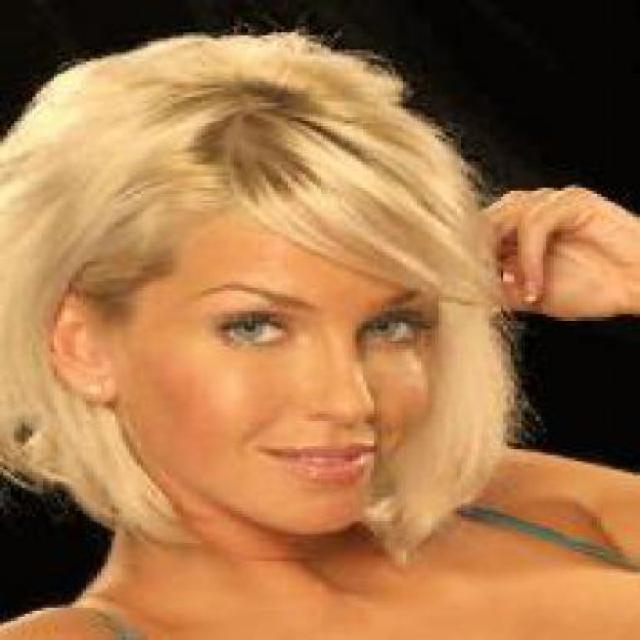closed-mouth: (252, 440, 378, 482)
